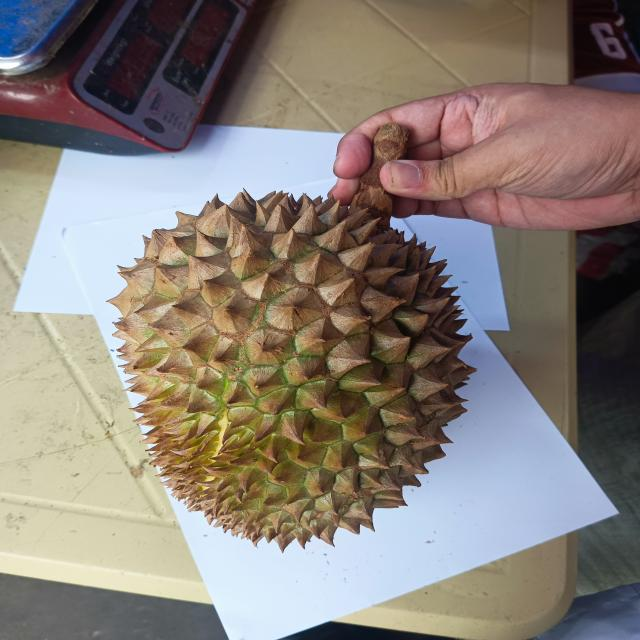mature: (107, 180, 476, 545)
